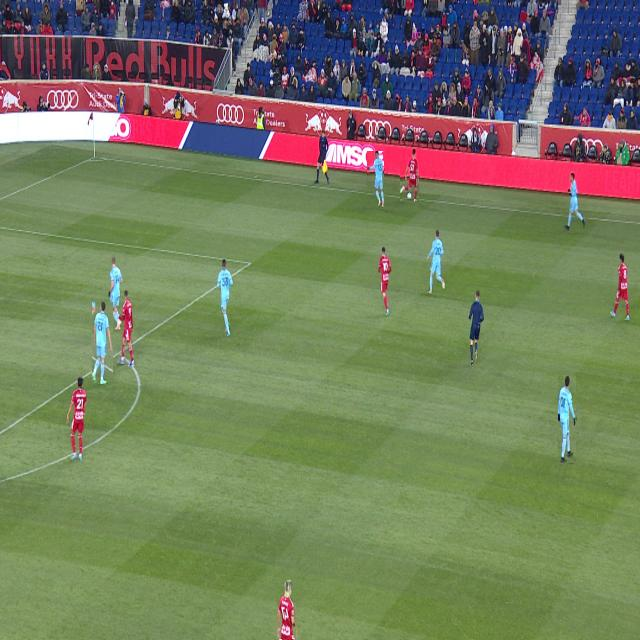football: (407, 192, 412, 199)
player: (92, 303, 113, 384), (67, 377, 87, 461), (558, 377, 576, 463), (117, 290, 135, 367), (610, 254, 629, 321), (217, 259, 233, 338), (564, 173, 585, 230), (427, 230, 445, 295), (108, 257, 123, 330), (278, 581, 296, 639), (400, 149, 419, 202), (378, 248, 392, 316), (368, 152, 384, 208)
referee: (468, 291, 484, 364)
